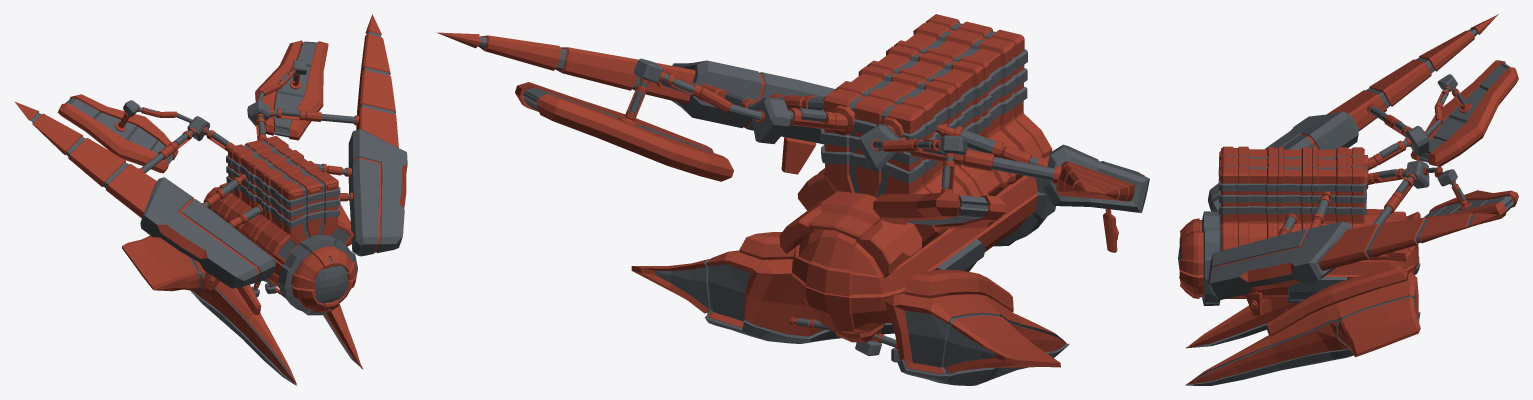
Rendered from Fighter_03_Red.fbx.
The picture shows the model from 3 angles, left to right: view 1: azimuth 30°, elevation 25°; view 2: azimuth 150°, elevation 25°; view 3: azimuth 270°, elevation 25°; orthographic projection. The views are drawn at different scales.
Parts seen in each view (by area): view 1: Fighter_03_Red; view 2: Fighter_03_Red; view 3: Fighter_03_Red.
Part boxes in pixels (x1,y1,x2,y2): Fighter_03_Red: [14, 14, 407, 385]; Fighter_03_Red: [437, 14, 1149, 385]; Fighter_03_Red: [1178, 14, 1518, 385].
Bounding box in the file's own units: 1519 × 892 × 1091.
Materials: 2 (2 with a texture image).
